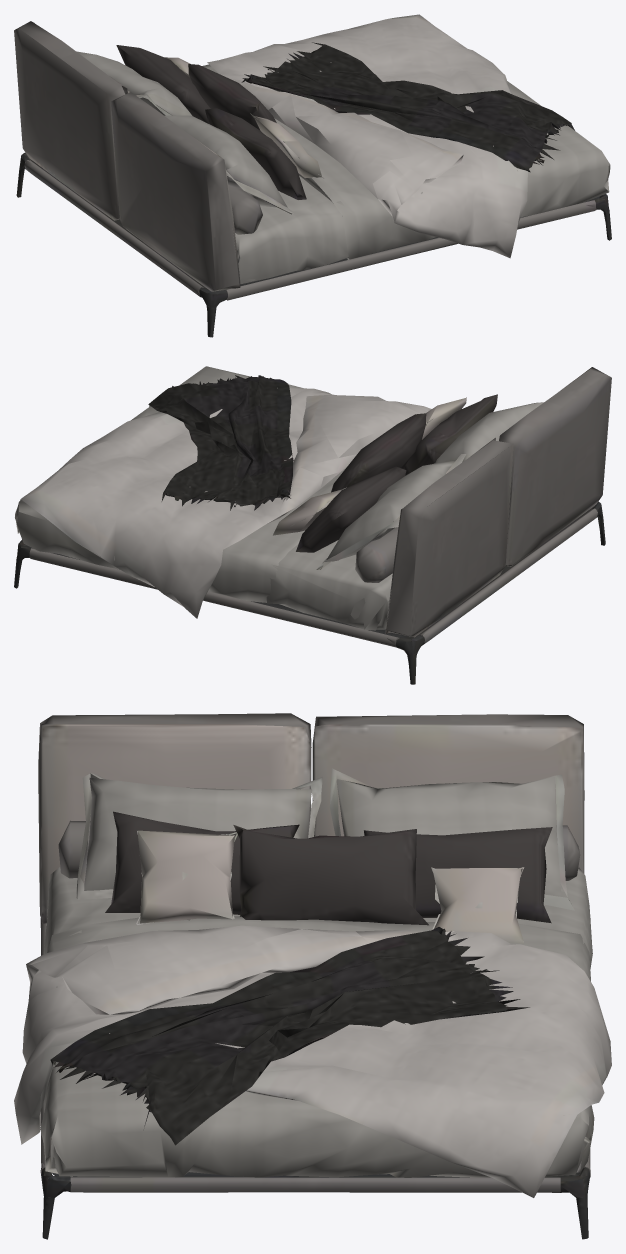
Rendered from Bed0008.obj.
3 views of the same model, one above another, from view 1: azimuth 30°, elevation 25°; view 2: azimuth 150°, elevation 25°; view 3: azimuth 270°, elevation 25° (orthographic). The views are drawn at different scales.
Size of the model in its own units: 2.33 by 0.918 by 2.
1 material, 1 textured.
